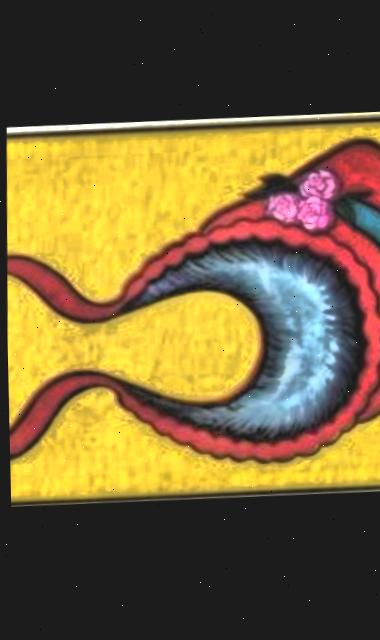El Gorrito: (2, 117, 380, 513)
